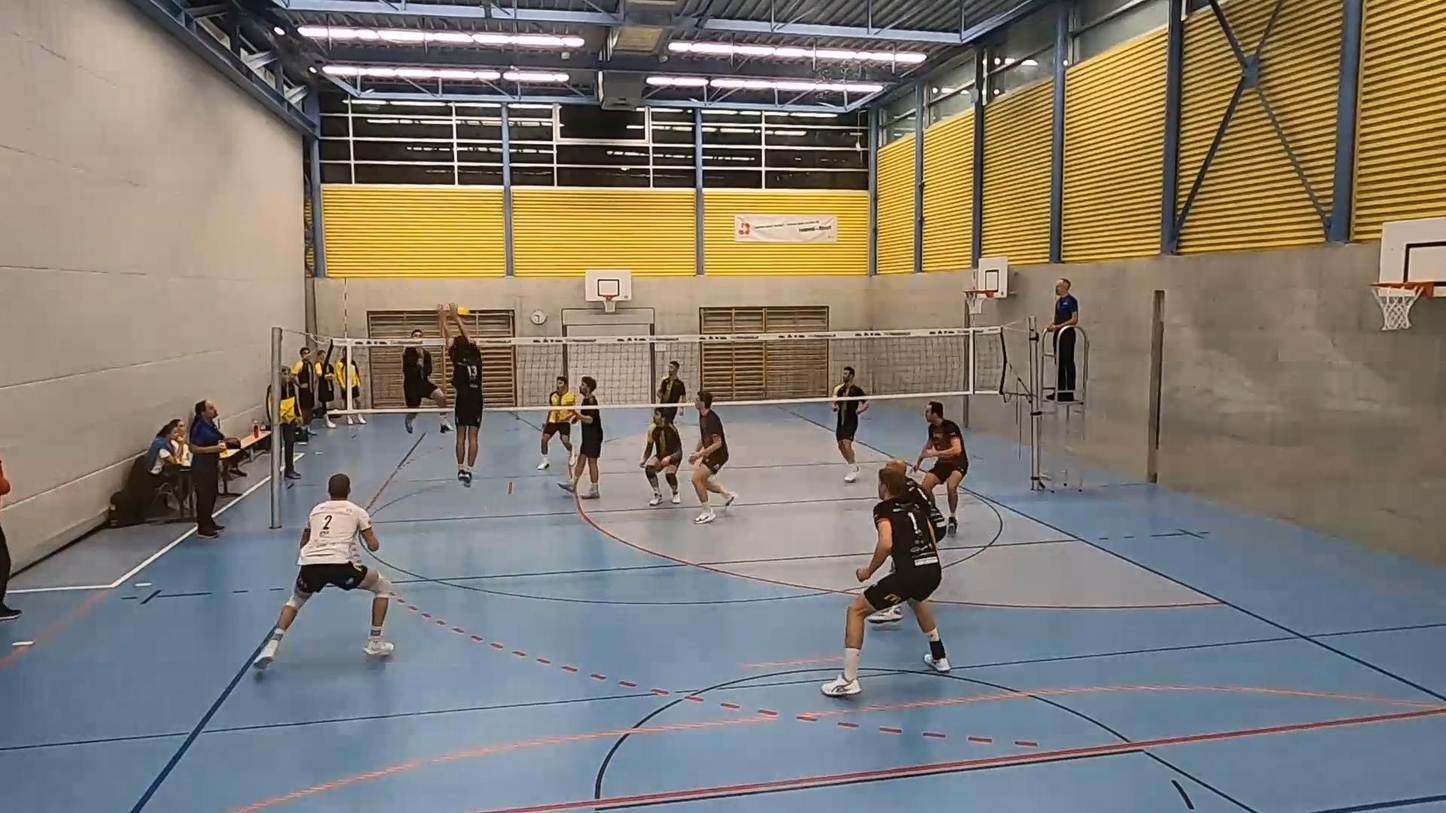attacco: (392, 316, 452, 440)
muro: (441, 311, 491, 487)
